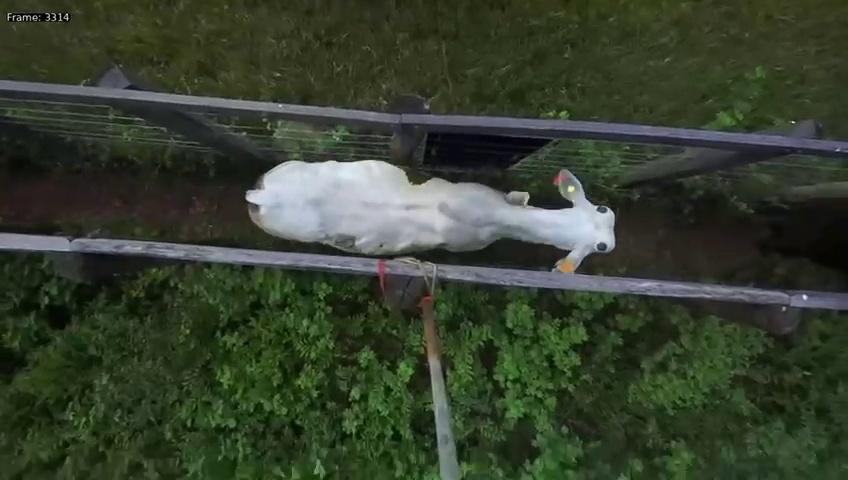cattle: (233, 157, 619, 280)
